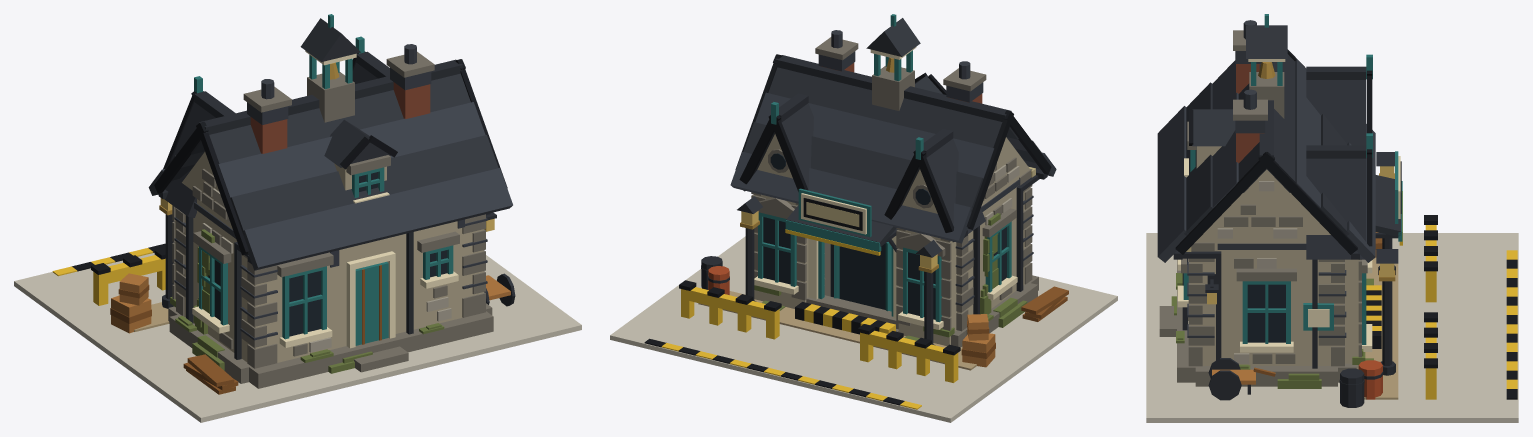
Rendered from Depot_atlas.fbx.
The picture shows the model from 3 angles, left to right: view 1: azimuth 30°, elevation 25°; view 2: azimuth 150°, elevation 25°; view 3: azimuth 270°, elevation 25°; orthographic projection. The views are drawn at different scales.
Visible parts, largest first — view 1: Depot_Ground_Pavingdk_01, Depot_RoofB_Soot_04, Depot_RoofB_Slatedk_03, Depot_WallS_Stonewm_01, Depot_RoofB_Soot_02, Depot_RoofB_Slatedk_01, Depot_PlinthS_Stonedark_01, Depot_RidgeCap_Iron_01, Depot_RearDoorLeaf_Teal_01, Depot_WallW_Stonewm_01, Depot_BellCoteBase_Stonedark_01, Depot_Win04Glass_Dark_01 (+32 smaller); view 2: Depot_Ground_Pavingdk_01, Depot_RoofA_Slatedk_01, Depot_RoofA_Soot_04, Depot_RoofA_Soot_02, Depot_RoofA_Slatedk_03, Depot_Interior_Dark_01, Depot_RidgeCap_Iron_01, Depot_Bay1RoofB_Slatedk_01, Depot_WallW_Stonewm_01, Depot_Bay2RoofB_Slatedk_01, Depot_Ballast_Gravel_01, Depot_Win02Glass_Dark_01 (+37 smaller); view 3: Depot_Ground_Pavingdk_01, Depot_WallE_Stonewm_01, Depot_Bay2RoofA_Slatedk_01, Depot_RoofB_Soot_04, Depot_GableE_Stonewm_01, Depot_Bay1RoofA_Slatedk_01, Depot_RoofA_Soot_02, Depot_RoofB_Soot_02, Depot_RoofB_Slatedk_03, Depot_Win06Glass_Dark_01, Depot_RoofA_Slatedk_01, Depot_Ballast_Gravel_01 (+42 smaller).
Part boxes in pixels (<box>): Depot_Ground_Pavingdk_01: <box>14,253,581,422</box>; Depot_RoofB_Soot_04: <box>243,168,512,270</box>; Depot_RoofB_Slatedk_03: <box>230,135,498,235</box>; Depot_WallS_Stonewm_01: <box>249,221,483,362</box>; Depot_RoofB_Soot_02: <box>218,102,485,198</box>; Depot_RoofB_Slatedk_01: <box>209,73,470,163</box>; Depot_PlinthS_Stonedark_01: <box>249,311,493,388</box>; Depot_RidgeCap_Iron_01: <box>199,59,462,134</box>; Depot_RearDoorLeaf_Teal_01: <box>355,261,388,345</box>; Depot_WallW_Stonewm_01: <box>183,201,249,361</box>; Depot_BellCoteBase_Stonedark_01: <box>307,72,354,122</box>; Depot_Win04Glass_Dark_01: <box>289,271,320,336</box>; Depot_Ground_Pavingdk_01: <box>610,236,1117,422</box>; Depot_RoofA_Slatedk_01: <box>768,67,1002,147</box>; Depot_RoofA_Soot_04: <box>730,151,971,243</box>; Depot_RoofA_Soot_02: <box>755,92,994,178</box>; Depot_RoofA_Slatedk_03: <box>743,122,983,211</box>; Depot_Interior_Dark_01: <box>830,243,885,309</box>; Depot_RidgeCap_Iron_01: <box>775,55,1011,121</box>; Depot_Bay1RoofB_Slatedk_01: <box>926,139,985,242</box>; Depot_WallW_Stonewm_01: <box>966,173,1025,314</box>; Depot_Bay2RoofB_Slatedk_01: <box>782,103,813,189</box>; Depot_Ballast_Gravel_01: <box>698,291,976,370</box>; Depot_Win02Glass_Dark_01: <box>763,217,790,284</box>; Depot_Ground_Pavingdk_01: <box>1146,233,1518,422</box>; Depot_WallE_Stonewm_01: <box>1201,242,1332,365</box>; Depot_Bay2RoofA_Slatedk_01: <box>1306,158,1366,259</box>; Depot_RoofB_Soot_04: <box>1157,106,1187,262</box>; Depot_GableE_Stonewm_01: <box>1196,169,1330,241</box>; Depot_Bay1RoofA_Slatedk_01: <box>1306,80,1366,145</box>; Depot_RoofA_Soot_02: <box>1295,59,1320,208</box>; Depot_RoofB_Soot_02: <box>1212,61,1238,208</box>; Depot_RoofB_Slatedk_03: <box>1184,82,1212,235</box>; Depot_Win06Glass_Dark_01: <box>1247,284,1285,342</box>; Depot_RoofA_Slatedk_01: <box>1266,54,1294,192</box>; Depot_Ballast_Gravel_01: <box>1364,257,1398,399</box>.
Size of the model in its own units: 40 by 31.8 by 34.
1 material, 1 textured.
